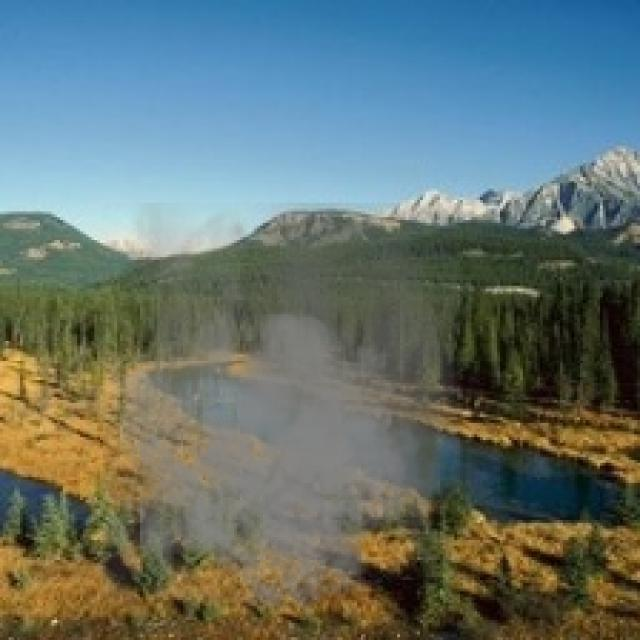smoke: (100, 203, 466, 620)
